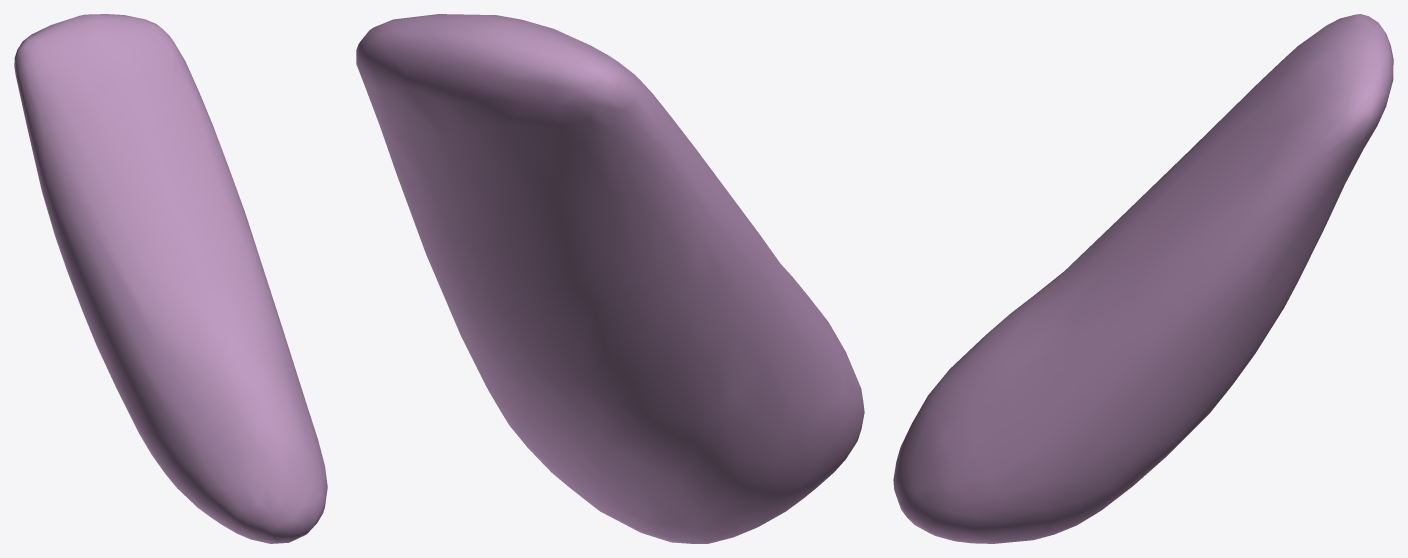
3 renders of one model, left to right at view 1: azimuth 30°, elevation 25°; view 2: azimuth 150°, elevation 25°; view 3: azimuth 270°, elevation 25°, orthographic. The views are drawn at different scales.
Visible parts, largest first — view 1: 中央小叶; view 2: 中央小叶; view 3: 中央小叶.
Boxes of the visible parts, x1,y1,x2,y2 form: 中央小叶: [14, 14, 327, 543]; 中央小叶: [356, 14, 864, 543]; 中央小叶: [893, 14, 1393, 543].
Size of the model in its own units: 0.0114 by 0.0251 by 0.0233.
